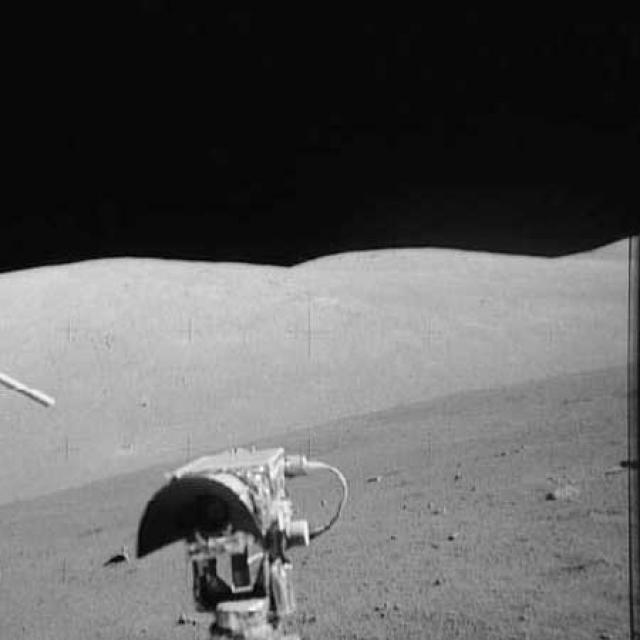artifact: (132, 418, 350, 636), (1, 370, 64, 417)
rock: (544, 470, 578, 507), (102, 540, 130, 570)
